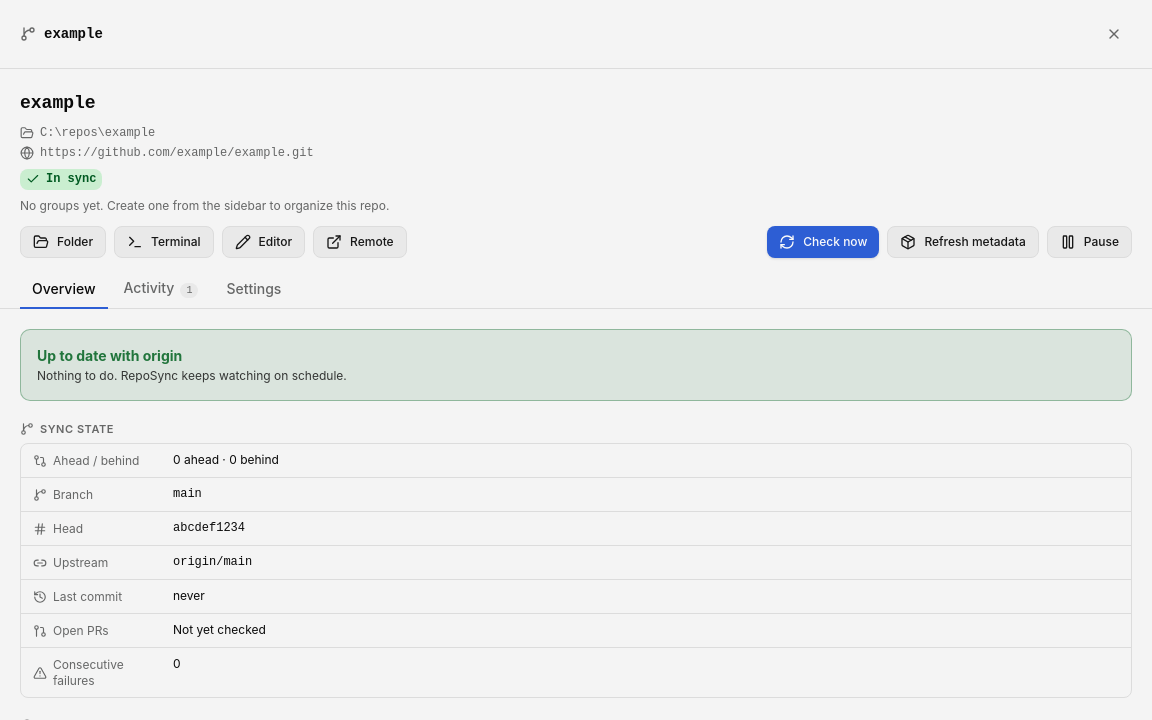
RepoDetailPanel activity tab (N4) › fetches this repo's activity scoped by repoId, with no filter controls in the panel
Click the tab "Activity1": coordinates (161, 290) x1=112 y1=270 x2=210 y2=309
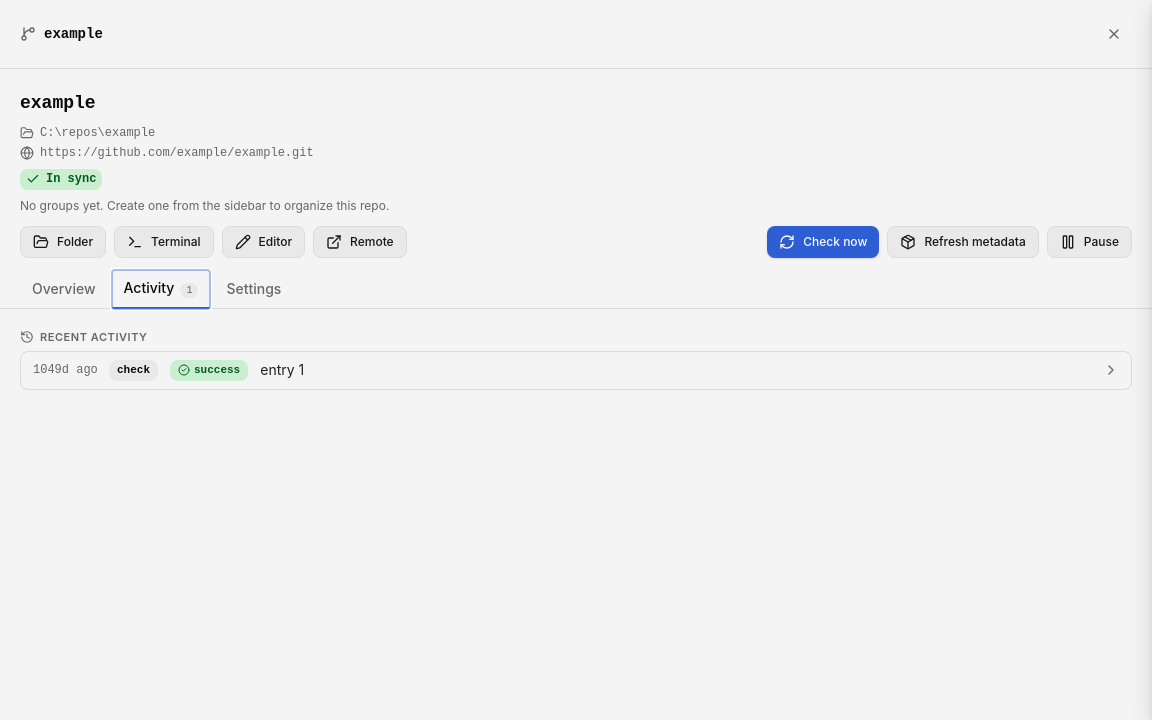
Expected: the text "entry 1" is shown, x1=260 y1=361 x2=304 y2=378
